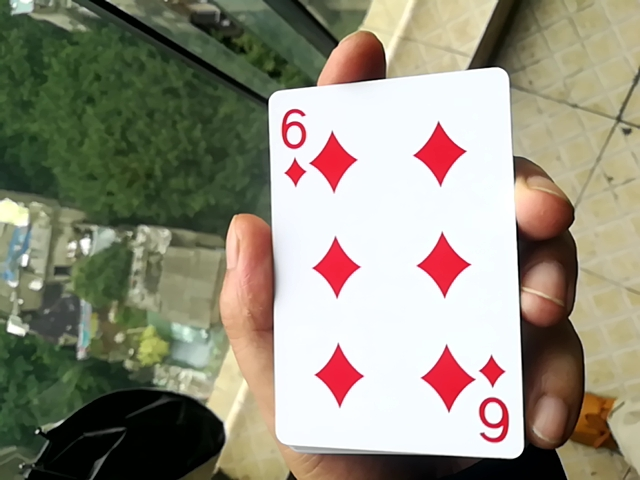fk 6: (251, 65, 538, 458)
